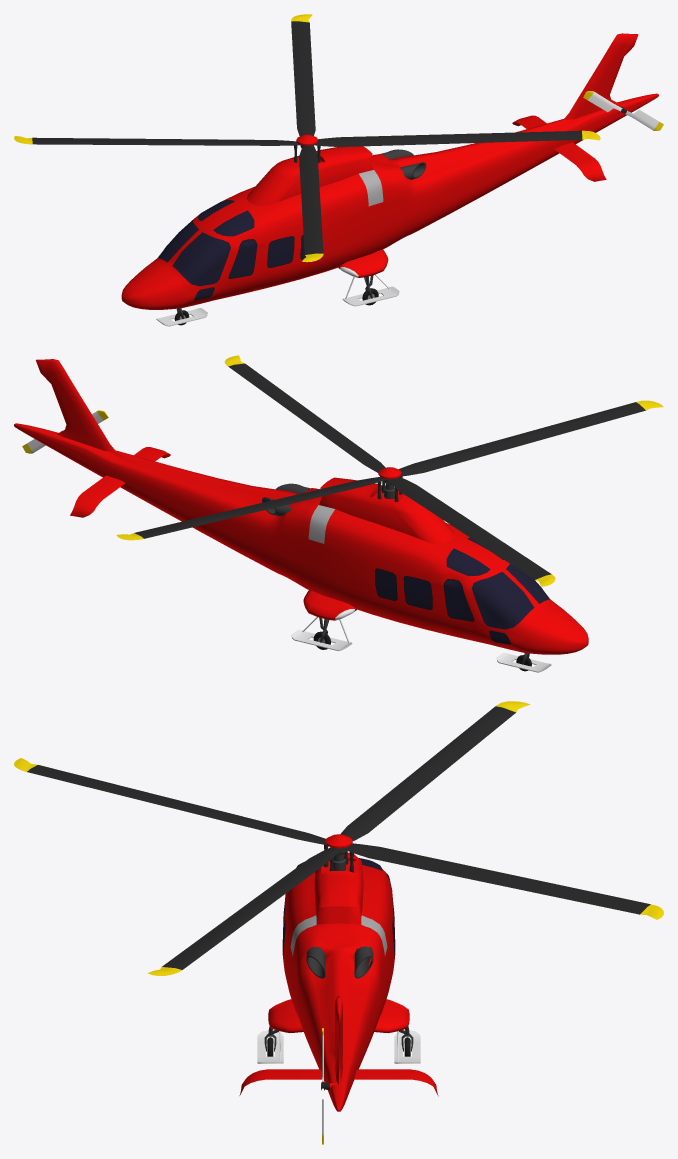
Rendered from AgustaDaVinci.fbx.
3 views of the same model, one above another, from view 1: azimuth 30°, elevation 25°; view 2: azimuth 150°, elevation 25°; view 3: azimuth 270°, elevation 25° (orthographic). The views are drawn at different scales.
Visible parts, largest first — view 1: Cube, Cylinder.003, Cube.001, Cube.004, Cylinder.002, Cylinder, Cube.007; view 2: Cube, Cylinder.003, Cube.001, Cube.004, Cube.007, Cube.006, Cylinder; view 3: Cube, Cylinder.003, Cube.004, Cube.001, Cube.007, Cylinder.
Part boxes in pixels (left/top/right/bottom): Cube: left=121, top=33, right=658, bottom=309; Cylinder.003: left=14, top=14, right=600, bottom=262; Cube.001: left=512, top=115, right=606, bottom=181; Cube.004: left=338, top=249, right=388, bottom=277; Cylinder.002: left=583, top=91, right=663, bottom=130; Cylinder: left=381, top=149, right=426, bottom=179; Cube.007: left=342, top=286, right=399, bottom=306; Cube: left=14, top=359, right=588, bottom=654; Cylinder.003: left=116, top=355, right=663, bottom=586; Cube.001: left=70, top=447, right=170, bottom=517; Cube.004: left=303, top=590, right=357, bottom=620; Cube.007: left=291, top=629, right=352, bottom=650; Cube.006: left=496, top=652, right=551, bottom=672; Cylinder: left=262, top=483, right=309, bottom=516; Cube: left=282, top=852, right=395, bottom=1111; Cylinder.003: left=14, top=701, right=663, bottom=975; Cube.004: left=268, top=999, right=409, bottom=1033; Cube.001: left=239, top=1069, right=438, bottom=1096; Cube.007: left=257, top=1030, right=420, bottom=1063; Cylinder: left=306, top=946, right=373, bottom=978.
Bounding box in the file's own units: 999 × 306 × 773.
